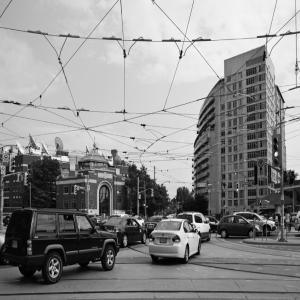Vehicle-registration-plate: (14, 241, 19, 248), (161, 239, 168, 244)
